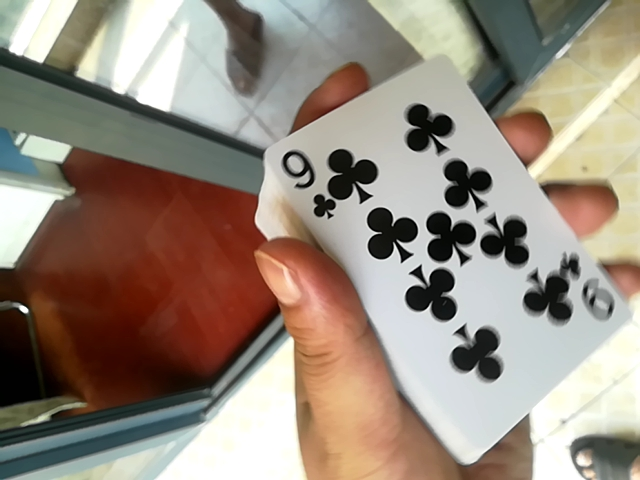mh 9: (163, 13, 634, 466)
